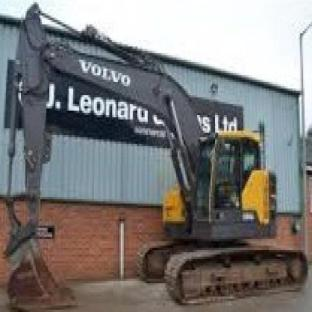ExcavationMachinery: (16, 3, 284, 296)
